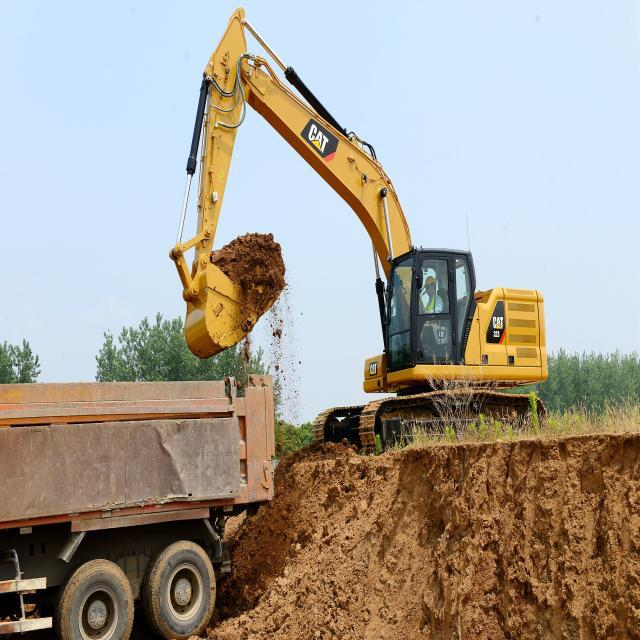C_E: (167, 6, 550, 457)
